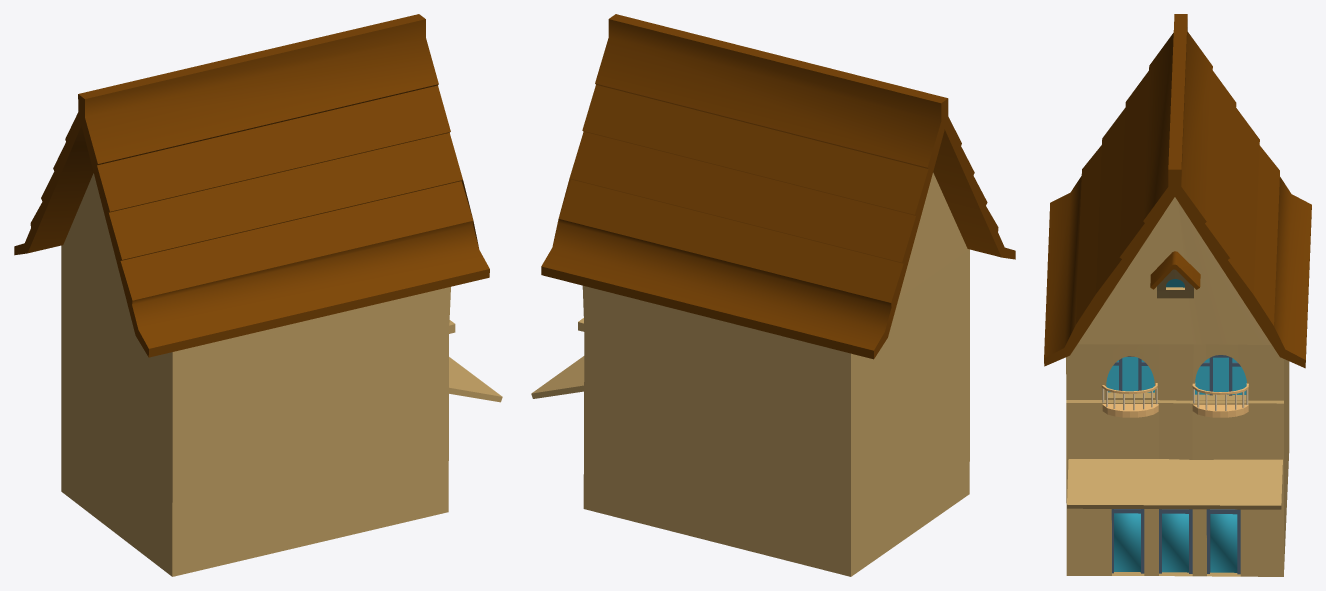
File: House11.fbx
3 renders of one model, left to right at view 1: azimuth 30°, elevation 25°; view 2: azimuth 150°, elevation 25°; view 3: azimuth 270°, elevation 25°, orthographic. The views are drawn at different scales.
Visible parts, largest first — view 1: Default(BDF23E4B-0EB8-4E8F-9B5C-23140BCF869F), polySurface1668, Default(79C4679B-1925-4DAF-AEC6-5BFCF2F2C811); view 2: Default(BDF23E4B-0EB8-4E8F-9B5C-23140BCF869F), polySurface1668, Default(79C4679B-1925-4DAF-AEC6-5BFCF2F2C811); view 3: Default(BDF23E4B-0EB8-4E8F-9B5C-23140BCF869F), polySurface1668, Default(79C4679B-1925-4DAF-AEC6-5BFCF2F2C811), Group029, Default(593F84D1-8E24-4737-9881-665163D8D912), Default(7F2206B3-D064-435F-B093-B0156C3D1321), Default(02FEAED0-C2A9-41F4-A3E3-FAE6FF0AF027), Default(4F658A7F-11A6-412F-BE45-833107E42C71), polySurface1674, polySurface1669, polySurface1672.
Boxes of the visible parts, x1,y1,x2,y2 form: Default(BDF23E4B-0EB8-4E8F-9B5C-23140BCF869F): (14, 14, 489, 357); polySurface1668: (61, 173, 455, 576); Default(79C4679B-1925-4DAF-AEC6-5BFCF2F2C811): (449, 357, 502, 402); Default(BDF23E4B-0EB8-4E8F-9B5C-23140BCF869F): (541, 14, 1015, 359); polySurface1668: (578, 172, 969, 576); Default(79C4679B-1925-4DAF-AEC6-5BFCF2F2C811): (531, 356, 584, 398); Default(BDF23E4B-0EB8-4E8F-9B5C-23140BCF869F): (1044, 14, 1311, 368); polySurface1668: (1066, 197, 1289, 576); Default(79C4679B-1925-4DAF-AEC6-5BFCF2F2C811): (1067, 459, 1282, 509); Group029: (1065, 169, 1284, 572); Default(593F84D1-8E24-4737-9881-665163D8D912): (1106, 357, 1246, 394); Default(7F2206B3-D064-435F-B093-B0156C3D1321): (1111, 509, 1240, 574); Default(02FEAED0-C2A9-41F4-A3E3-FAE6FF0AF027): (1150, 251, 1200, 289); Default(4F658A7F-11A6-412F-BE45-833107E42C71): (1113, 355, 1240, 395); polySurface1674: (1157, 269, 1193, 298); polySurface1669: (1102, 404, 1158, 417); polySurface1672: (1192, 404, 1248, 417).
Size of the model in its own units: 108 by 127 by 73.12.
